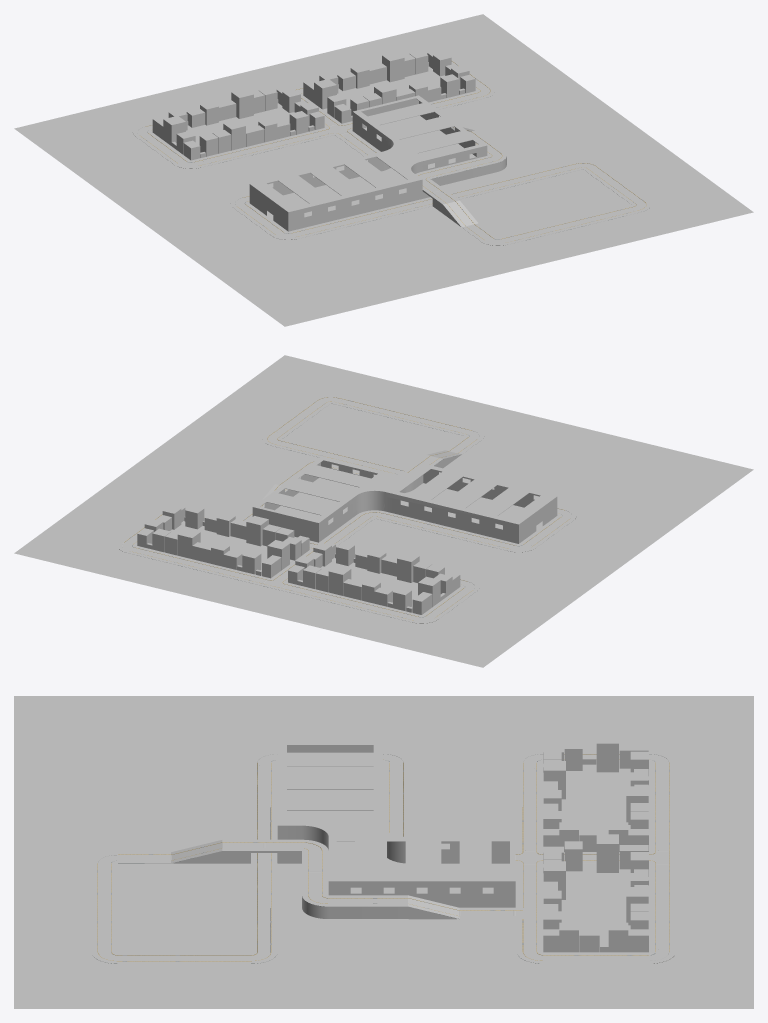
File: City.FBX
3 views of the same model, one above another, from view 1: azimuth 30°, elevation 25°; view 2: azimuth 150°, elevation 25°; view 3: azimuth 270°, elevation 25° (orthographic). The views are drawn at different scales.
Parts seen in each view (by area): view 1: Ground, Offroad, Road Segments, Bridge Wall, Parking Lot, Apart 014, Apart 037; view 2: Ground, Offroad, Road Segments, Parking Lot, Apart 014, Apart 037; view 3: Ground, Road Segments, Offroad, Parking Lot, Bridge Wall, Apart 033, Apart 3, Apart 041, Apart 030, Apart 026, Apart 007, Apart 023 (+1 smaller).
Boxes of the visible parts, x1=… form: Ground: x1=14, y1=14, x2=753, y2=326; Offroad: x1=249, y1=95, x2=487, y2=231; Road Segments: x1=132, y1=57, x2=650, y2=245; Bridge Wall: x1=422, y1=156, x2=506, y2=226; Parking Lot: x1=323, y1=72, x2=440, y2=111; Apart 014: x1=231, y1=88, x2=253, y2=118; Apart 037: x1=382, y1=52, x2=404, y2=82; Ground: x1=14, y1=355, x2=753, y2=667; Offroad: x1=252, y1=457, x2=557, y2=543; Road Segments: x1=117, y1=395, x2=576, y2=623; Parking Lot: x1=174, y1=527, x2=293, y2=567; Apart 014: x1=328, y1=565, x2=351, y2=595; Apart 037: x1=177, y1=528, x2=200, y2=558; Ground: x1=14, y1=696, x2=753, y2=1008; Road Segments: x1=91, y1=751, x2=675, y2=963; Offroad: x1=277, y1=736, x2=515, y2=907; Parking Lot: x1=568, y1=863, x2=624, y2=943; Bridge Wall: x1=173, y1=851, x2=456, y2=919; Apart 033: x1=596, y1=834, x2=618, y2=872; Apart 3: x1=596, y1=734, x2=618, y2=772; Apart 041: x1=608, y1=922, x2=628, y2=952; Apart 030: x1=559, y1=922, x2=578, y2=952; Apart 026: x1=543, y1=861, x2=565, y2=899; Apart 007: x1=543, y1=761, x2=565, y2=799; Apart 023: x1=564, y1=841, x2=582, y2=871.
Bounding box in the file's own units: 6672 × 321 × 6672.
